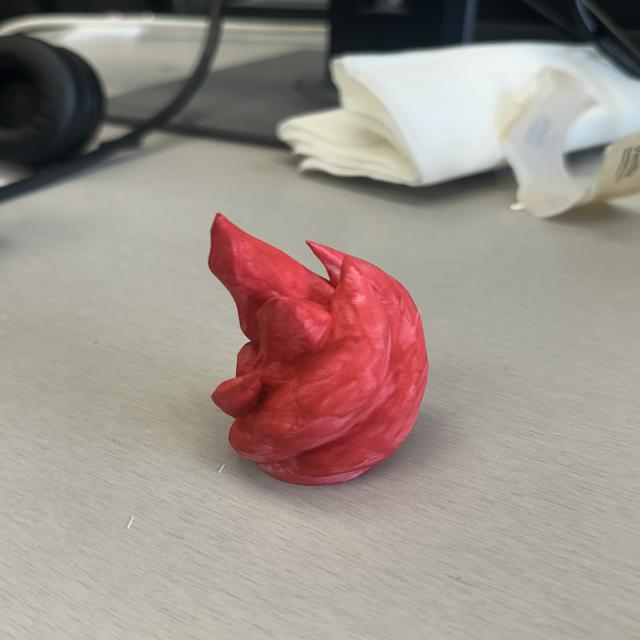fire: (202, 212, 431, 486)
